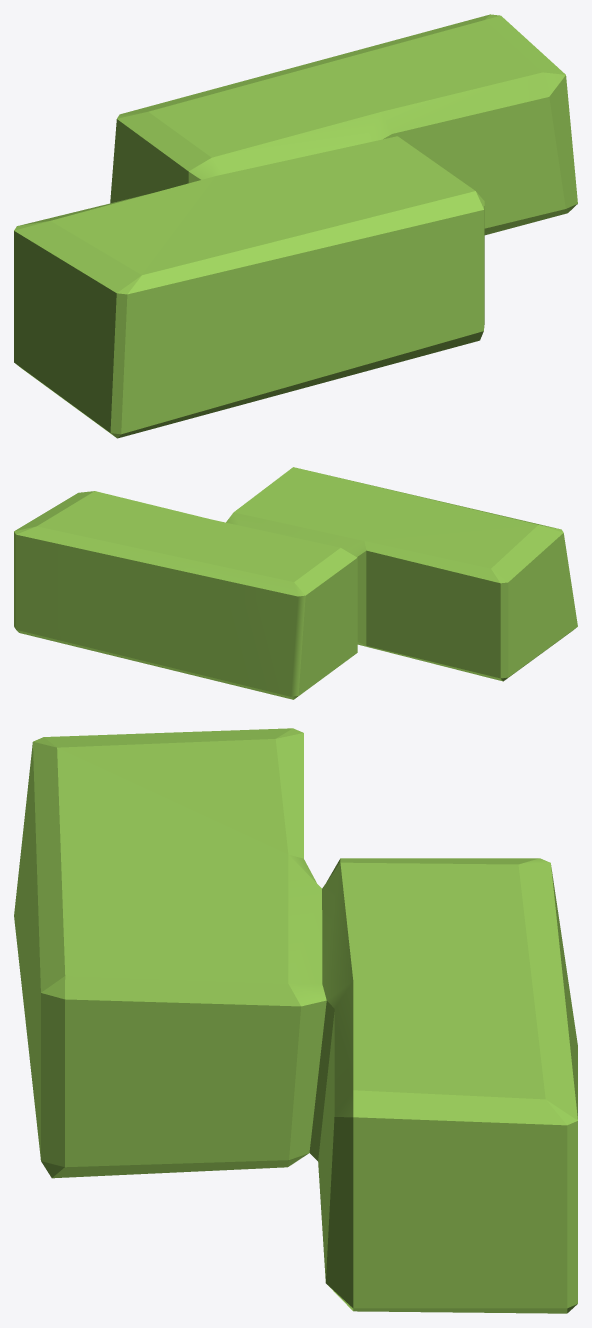
File: mesh_Brick_Double_v2.fbx
3 renders of one model, top to bottom at view 1: azimuth 30°, elevation 25°; view 2: azimuth 150°, elevation 25°; view 3: azimuth 270°, elevation 25°, orthographic. The views are drawn at different scales.
Parts seen in each view (by area): view 1: mesh_Brick_Double_v2_0; view 2: mesh_Brick_Double_v2_0; view 3: mesh_Brick_Double_v2_0.
Boxes of the visible parts, x1,y1,x2,y2 form: mesh_Brick_Double_v2_0: (14,14,577,438); mesh_Brick_Double_v2_0: (14,467,577,699); mesh_Brick_Double_v2_0: (14,728,577,1313).
Bounding box in the file's own units: 81.17 × 19.46 × 48.72.
